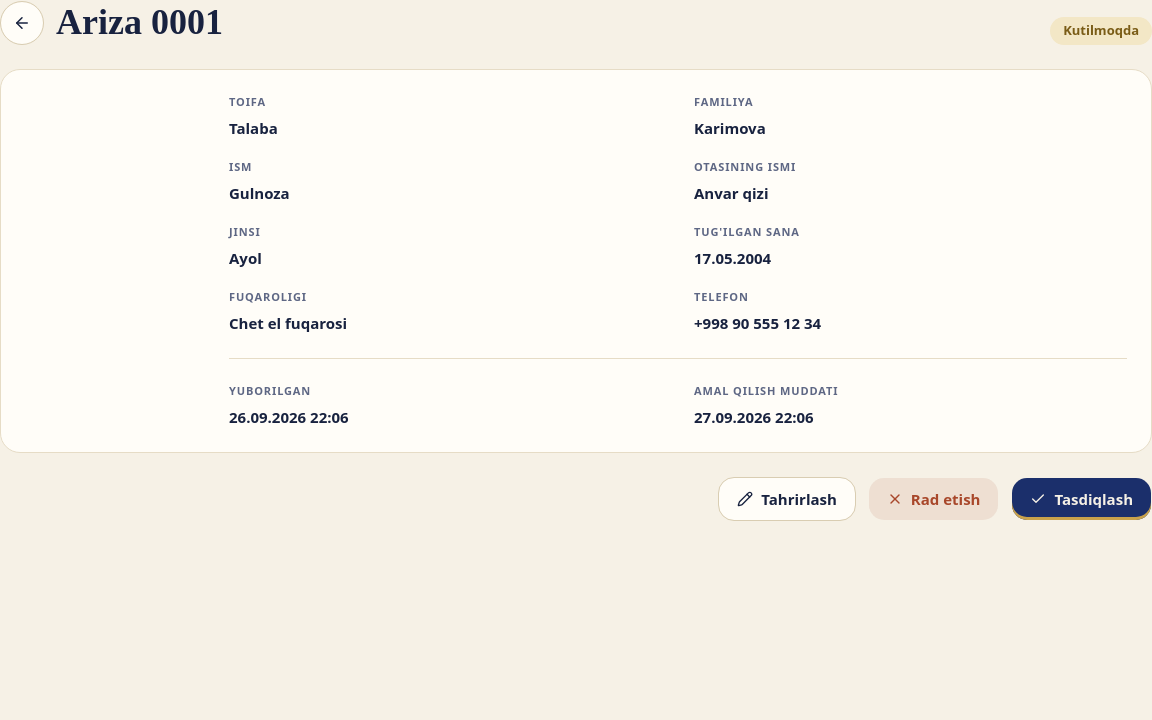
RequestPage › should show the backend message when approval fails
Click the button "Tasdiqlash" at (1082, 499), box [1012, 477, 1151, 521]
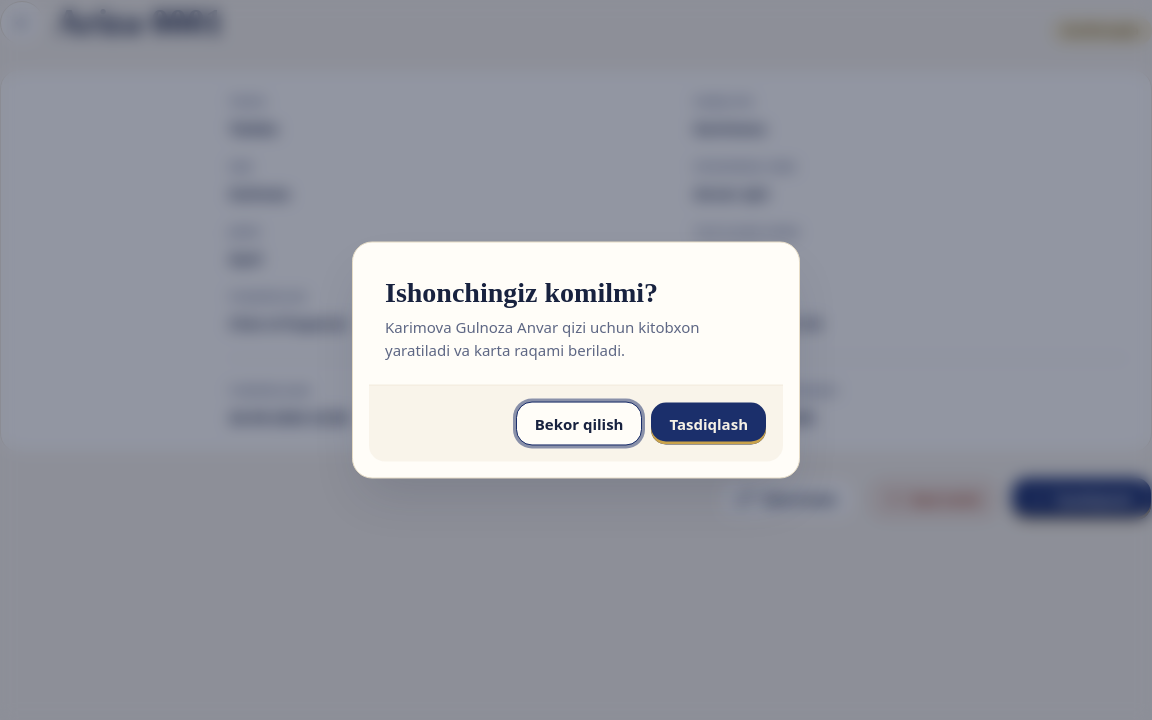
Click the button "Tasdiqlash" at (709, 424), box [650, 402, 767, 446]
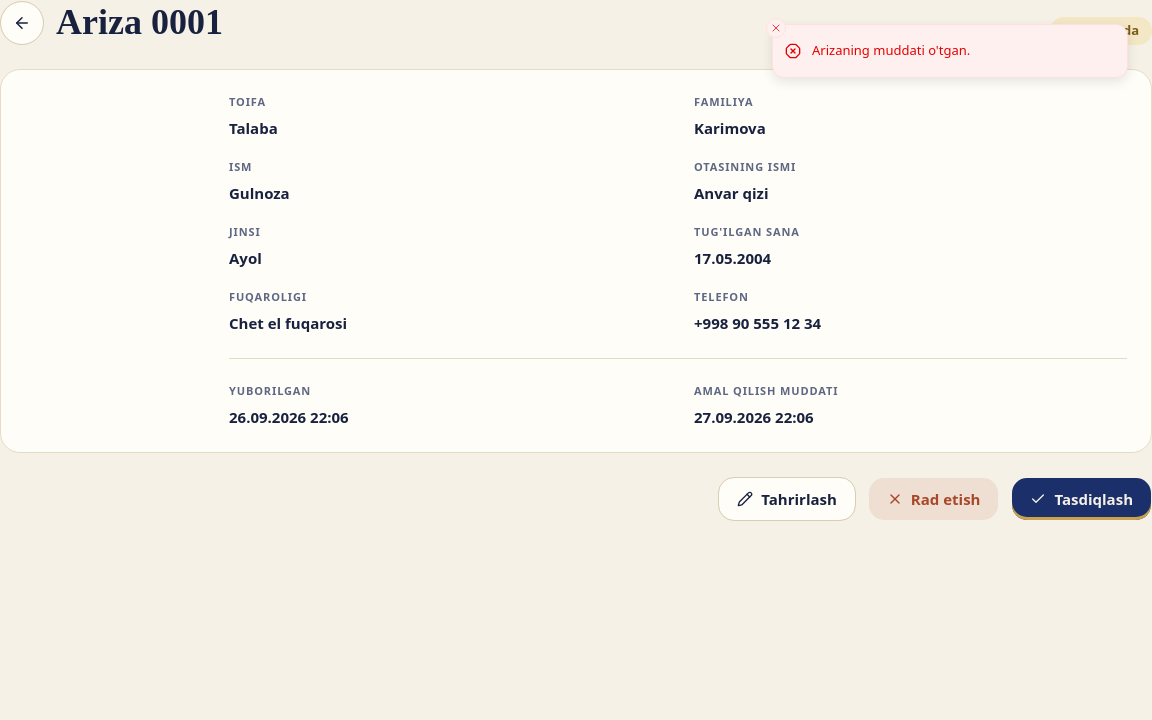
Expected: the heading reads "Ariza 0001", [56, 2, 223, 42]
Expected: the text "Arizaning muddati o'tgan." is shown, [812, 41, 970, 60]
